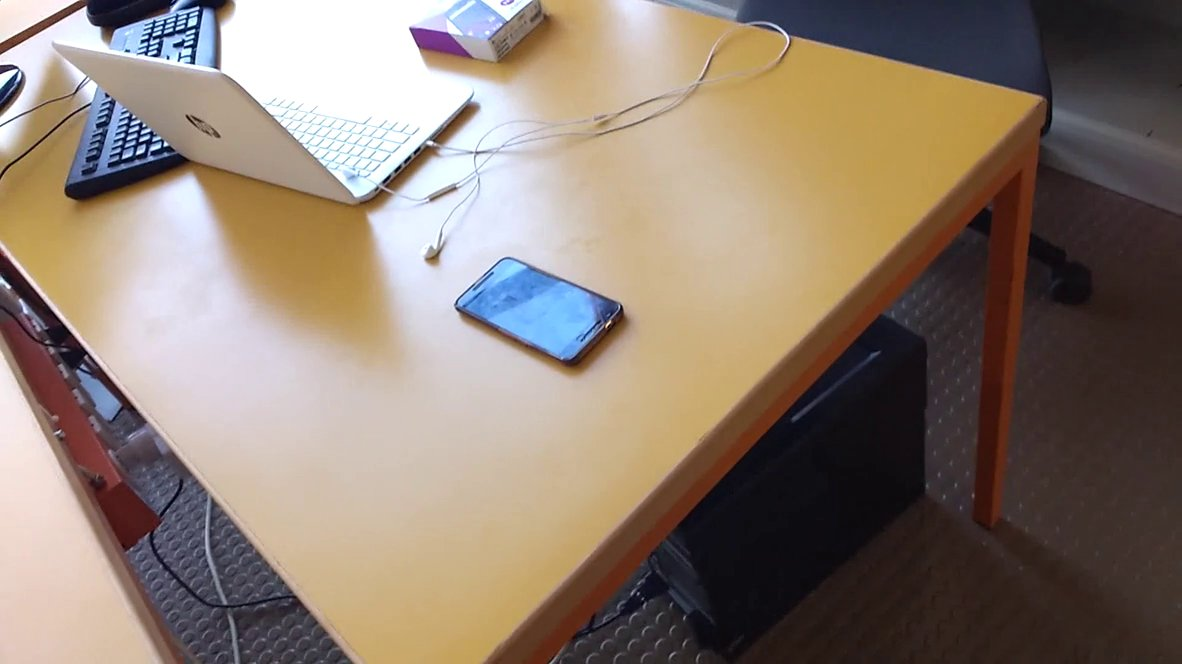laptop: (45, 34, 486, 210)
phone: (447, 250, 636, 382)
